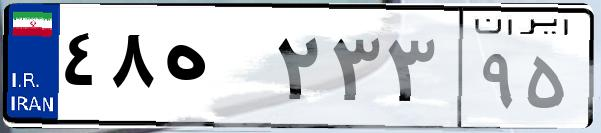2: (270, 28, 330, 110)
3: (385, 28, 445, 110), (330, 28, 385, 110)
4: (57, 26, 110, 100)
5: (525, 38, 570, 115)
8: (110, 28, 158, 98)
9: (475, 38, 525, 113)
ه: (158, 20, 270, 120)
